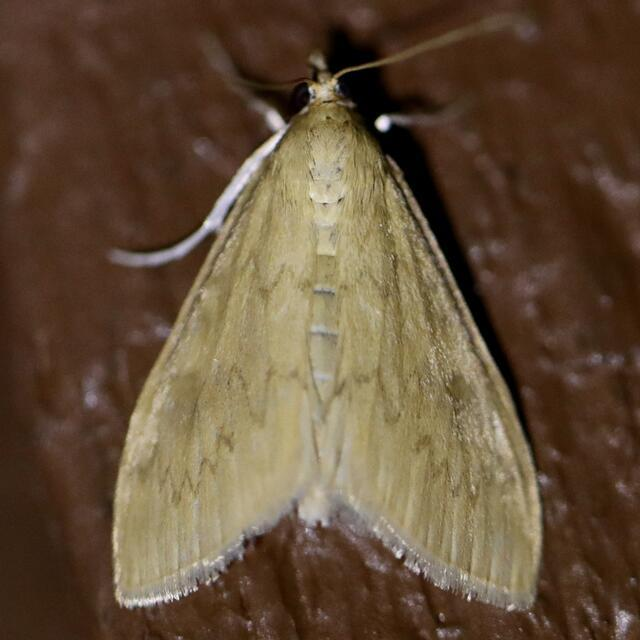cornborer-Adult-: (92, 19, 560, 626)
